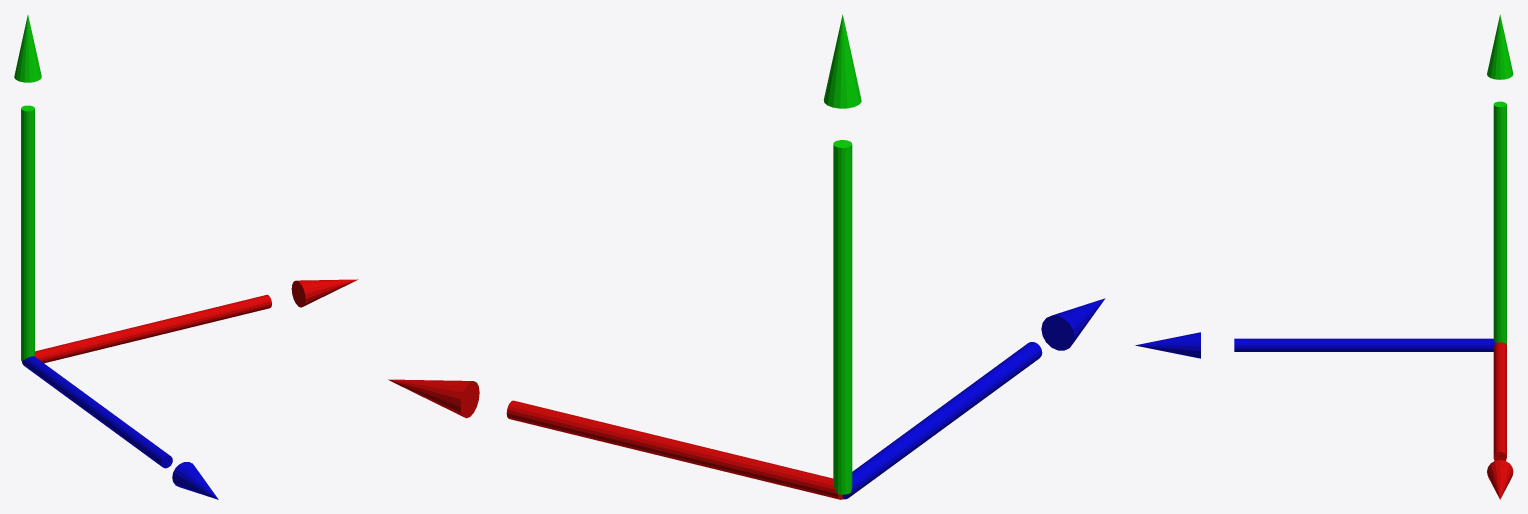
Rendered from axes.glb.
3 views of the same model, side by side, from view 1: azimuth 30°, elevation 25°; view 2: azimuth 150°, elevation 25°; view 3: azimuth 270°, elevation 25° (orthographic). The views are drawn at different scales.
Parts seen in each view (by area): view 1: world; view 2: world; view 3: world.
Boxes of the visible parts, x1=… form: world: x1=14, y1=15, x2=358, y2=499; world: x1=388, y1=14, x2=1105, y2=499; world: x1=1135, y1=14, x2=1513, y2=499.
Size of the model in its own units: 1.14 by 1.14 by 1.14.
